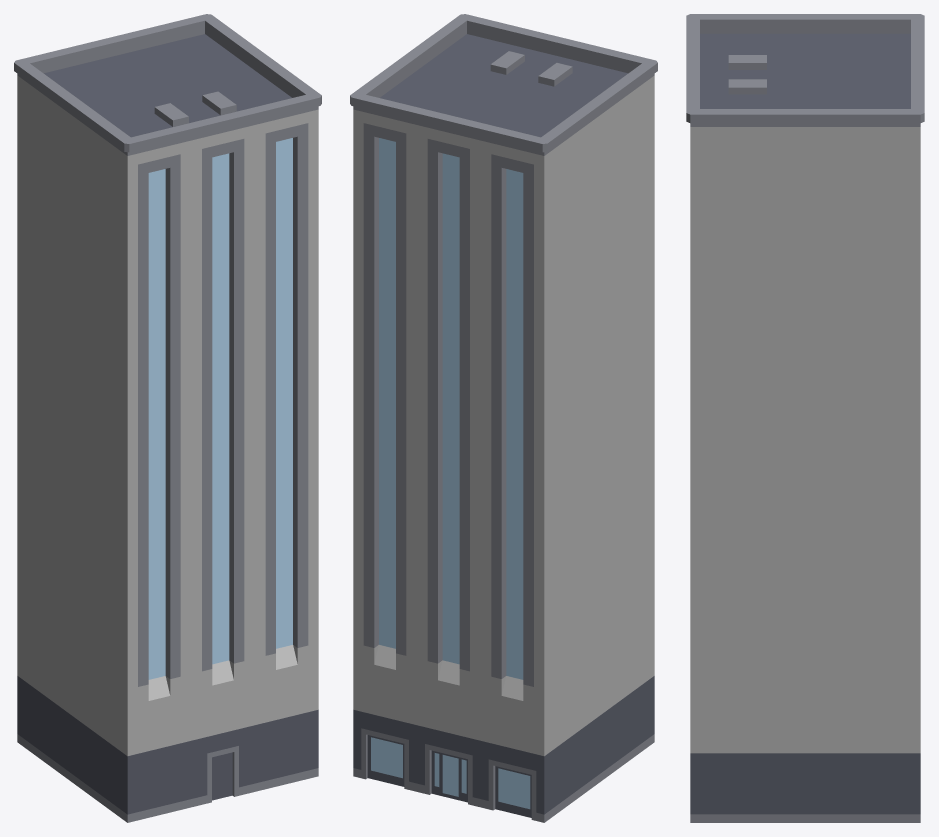
File: skyscraper.glb
3 views of the same model, side by side, from view 1: azimuth 30°, elevation 25°; view 2: azimuth 150°, elevation 25°; view 3: azimuth 270°, elevation 25° (orthographic). The views are drawn at different scales.
Parts seen in each view (by area): view 1: skyscraperF; view 2: skyscraperF; view 3: skyscraperF.
Part boxes in pixels (x1,y1,x2,y2): skyscraperF: [14, 14, 321, 822]; skyscraperF: [350, 14, 657, 822]; skyscraperF: [686, 14, 924, 822].
Size of the model in its own units: 1.24 by 4.08 by 1.24.
